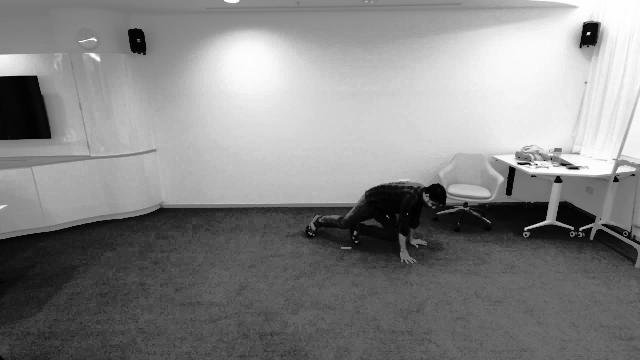jatuh: (296, 168, 452, 264)
